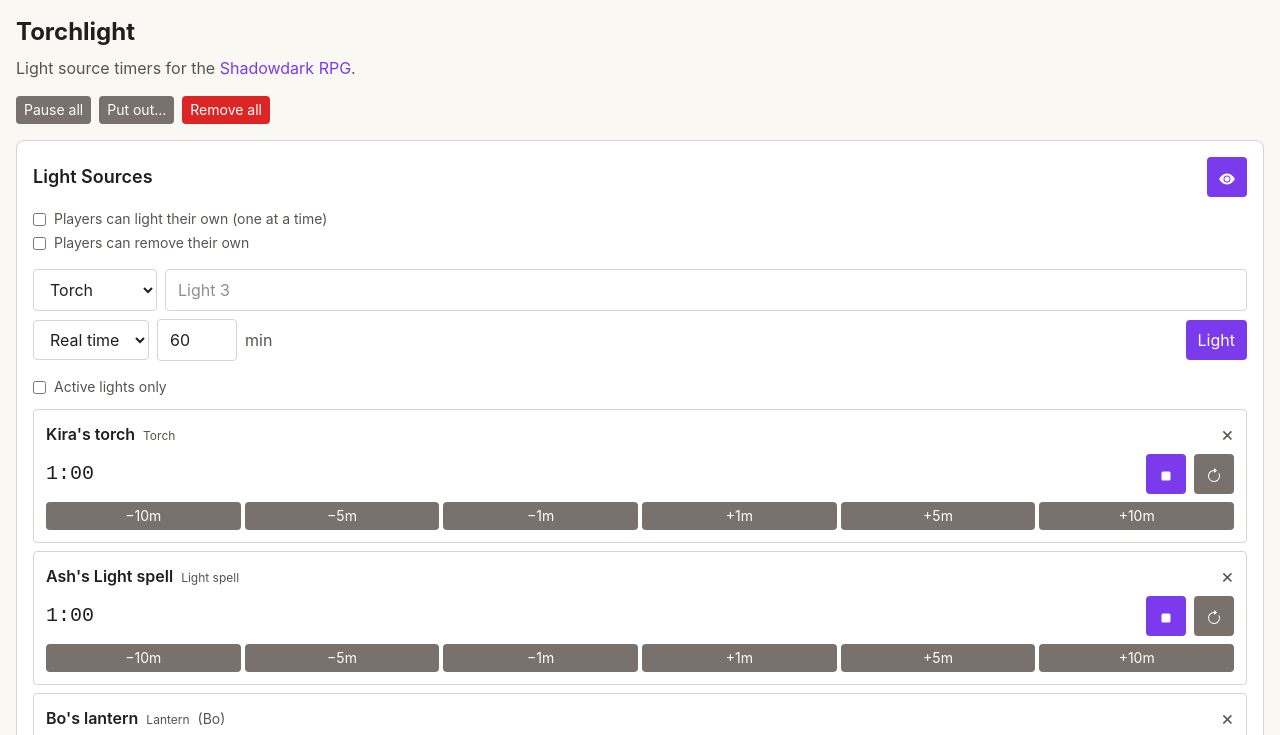
Test: Main (Torchlight) › light sources and GM bulk actions › Put out pre-checks flames, not the Light spell, and alerts everyone
Click the button "Put out…". click: click(137, 110)
box: x1=99 y1=96 x2=174 y2=124
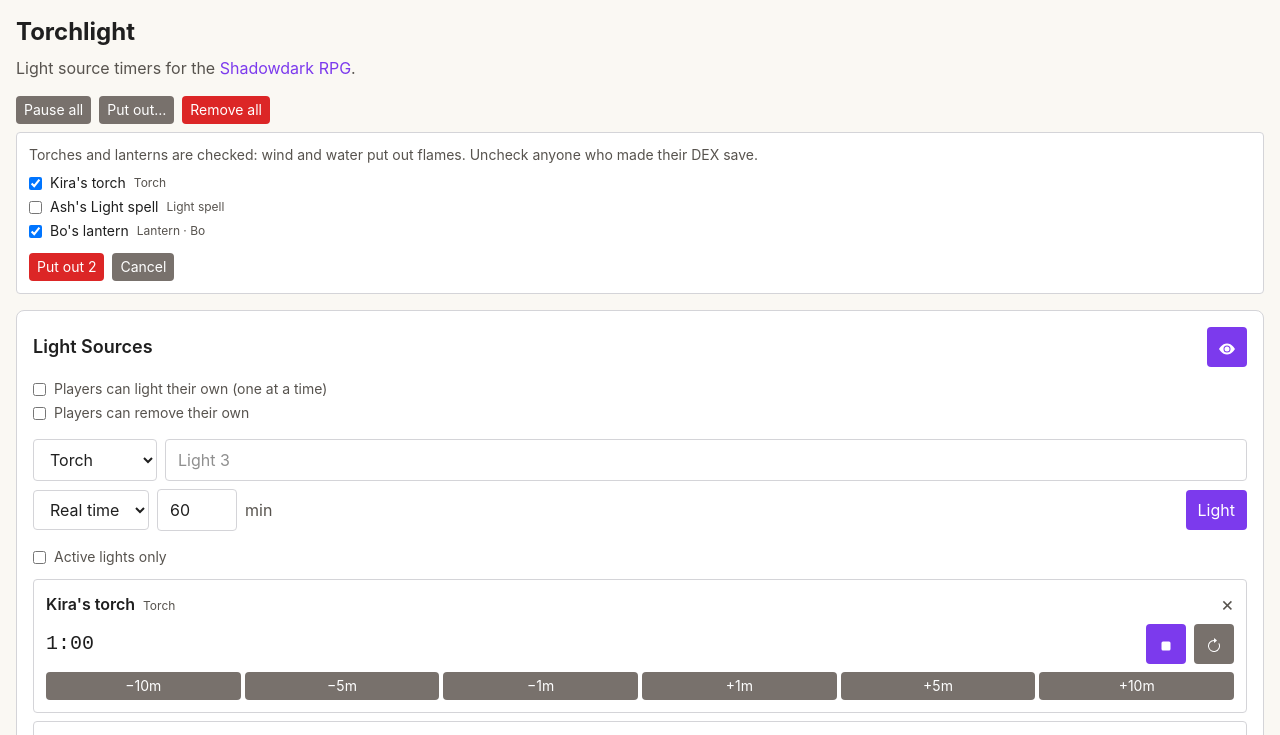
expect the checkbox labelled "Kira's torch Torch" is checked: met, box x1=29 y1=176 x2=42 y2=190
expect the checkbox labelled "Bo's lantern Lantern · Bo" is checked: met, box x1=29 y1=224 x2=42 y2=238
expect the checkbox labelled "Ash's Light spell Light spell" is not checked: met, box x1=29 y1=200 x2=42 y2=214
Click the button "Put out 2". click: click(67, 267)
box: x1=29 y1=253 x2=104 y2=281
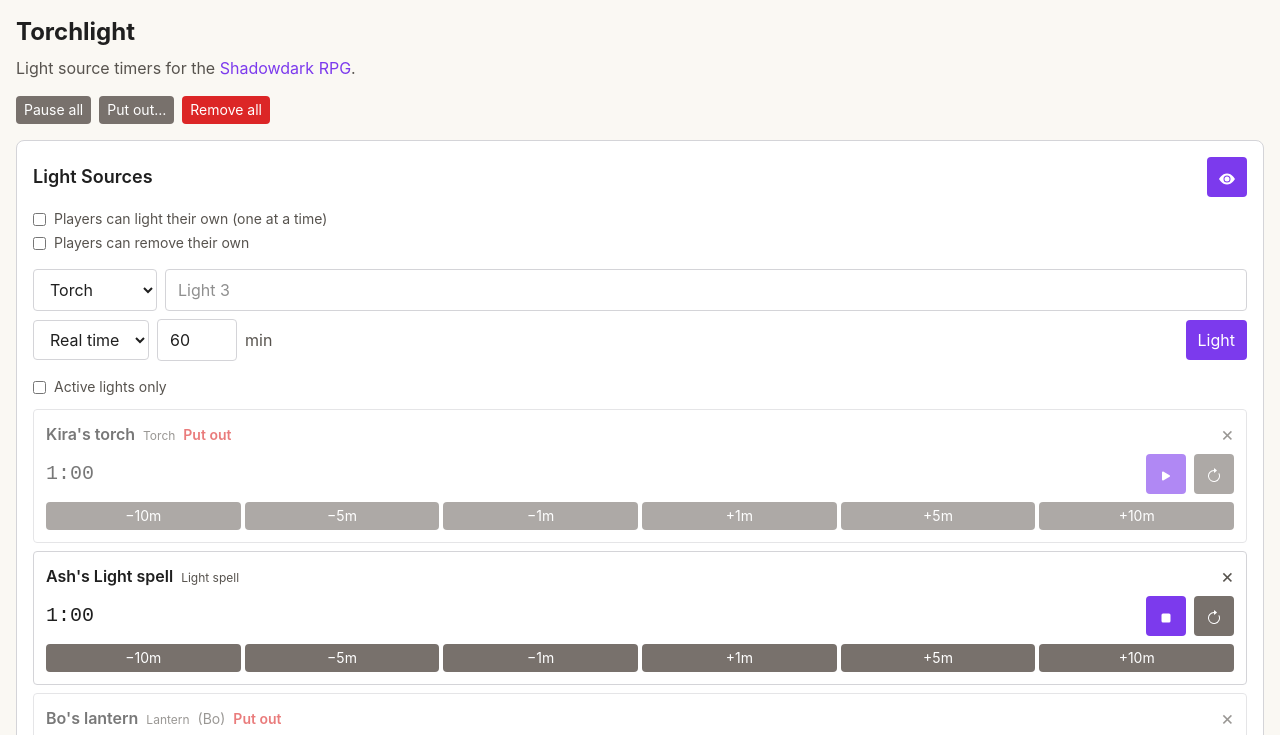
expect the text "Put out" is shown 2 times: met, box x1=183 y1=426 x2=231 y2=443; x1=233 y1=710 x2=282 y2=727
